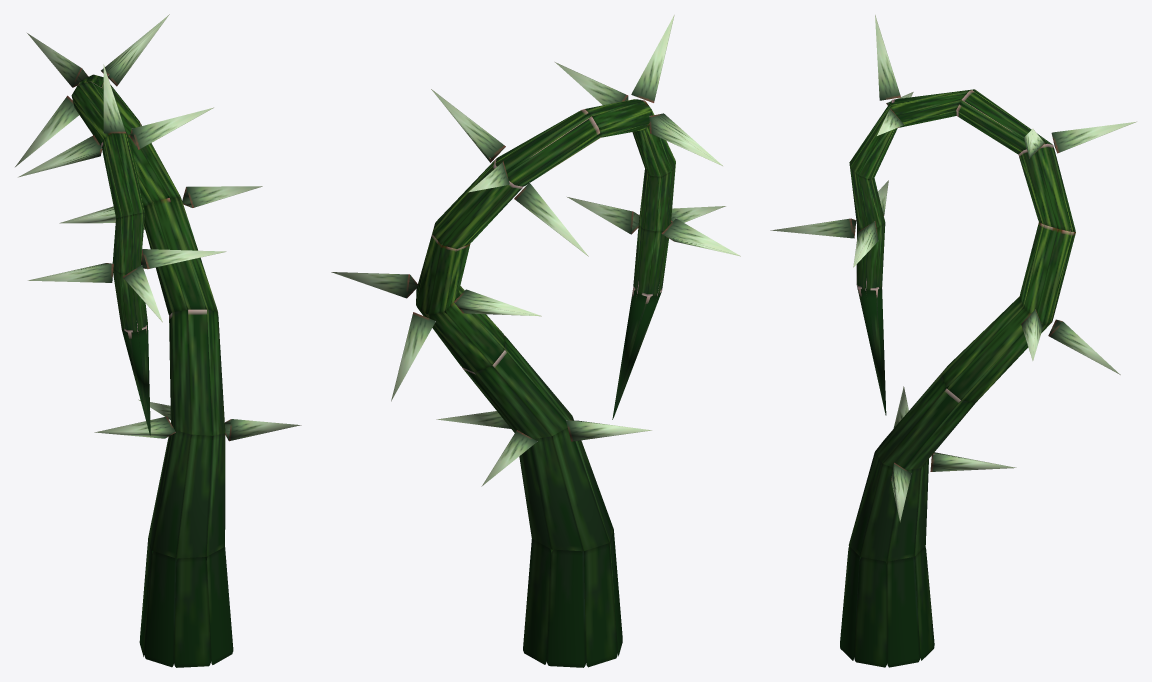
The picture shows the model from 3 angles, left to right: view 1: azimuth 30°, elevation 25°; view 2: azimuth 150°, elevation 25°; view 3: azimuth 270°, elevation 25°; orthographic projection. The views are drawn at different scales.
Visible parts, largest first — view 1: T1L4M006_7; view 2: T1L4M006_7; view 3: T1L4M006_7.
Part boxes in pixels (bbox=[...]): T1L4M006_7: bbox=[15, 14, 301, 667]; T1L4M006_7: bbox=[331, 15, 740, 667]; T1L4M006_7: bbox=[770, 15, 1136, 667].
Bounding box in the file's own units: 2.74 × 5.13 × 2.89.
